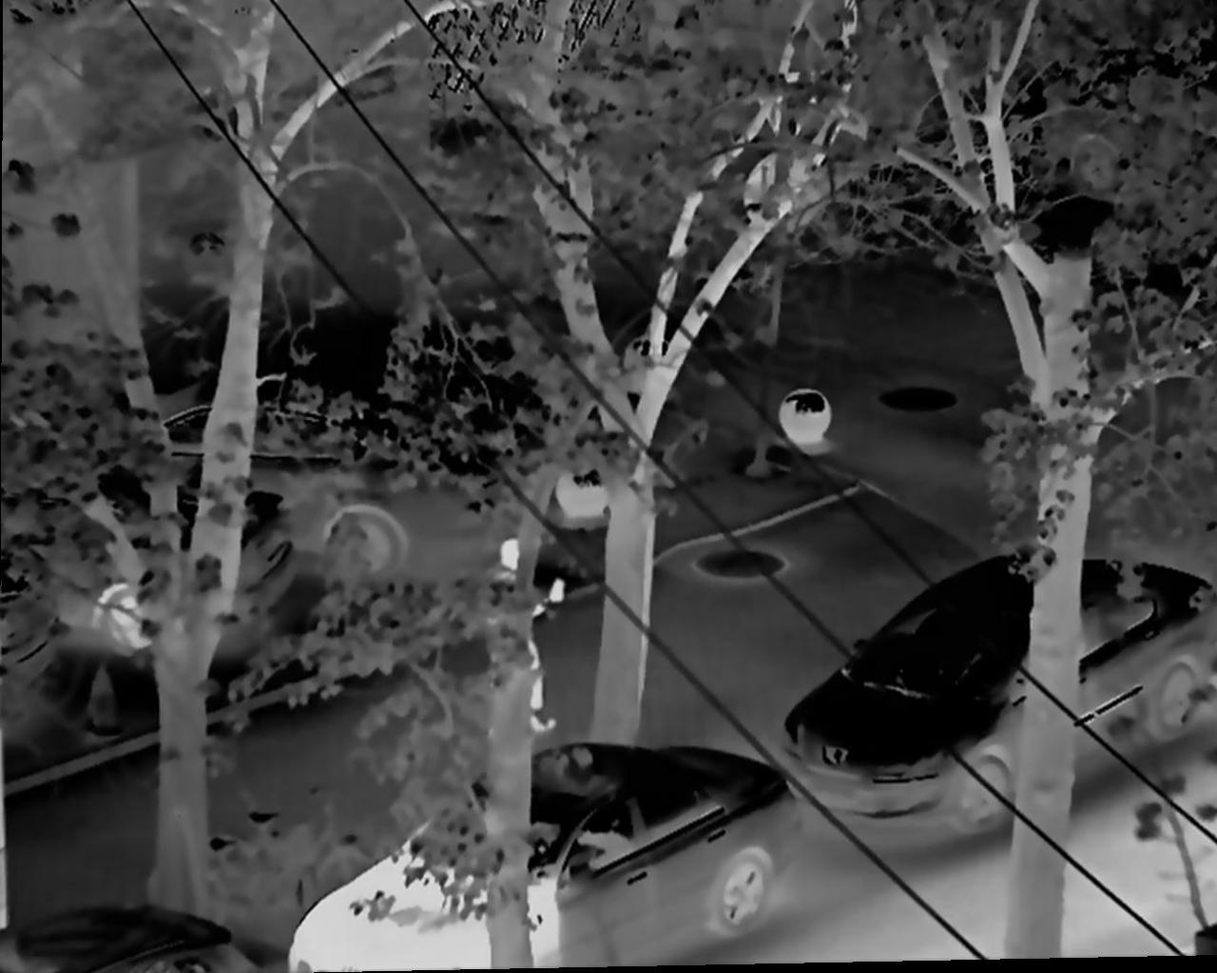person: (481, 530, 562, 735)
